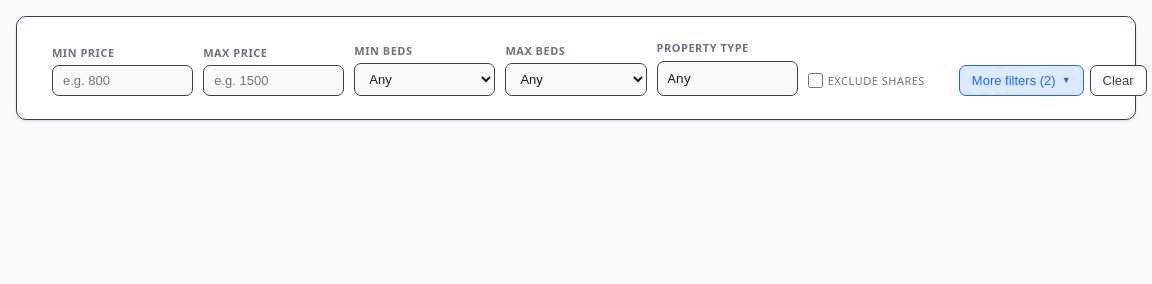
FilterToolbar — primary row › extra-filter badge count appears after toggling extras
Click the button "More filters (2) ▼".
click(1021, 80)  # box x1=959 y1=65 x2=1084 y2=96
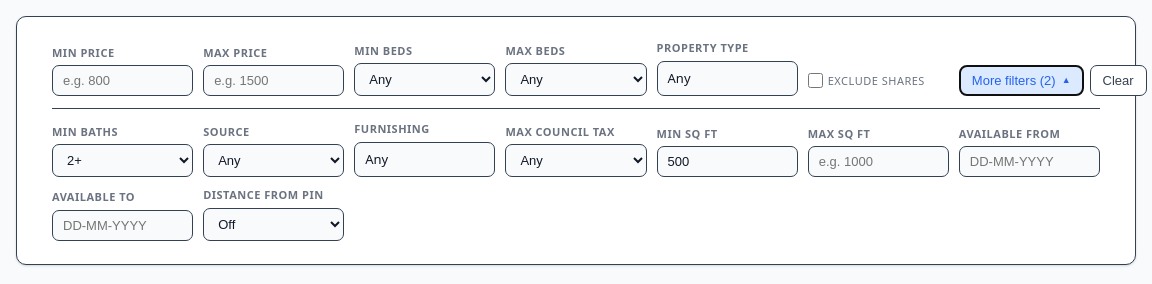
expect the text "Min baths" is shown: met, box x1=52 y1=124 x2=118 y2=138
